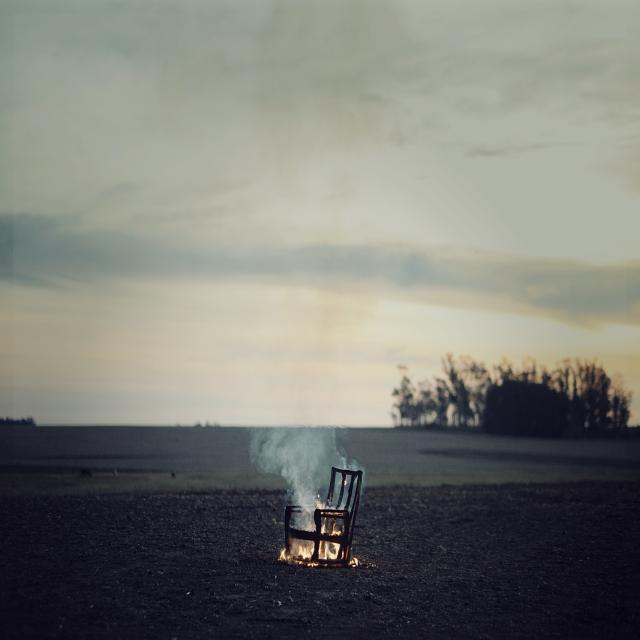Fire: (272, 520, 362, 572)
Smoke: (236, 401, 363, 518)
